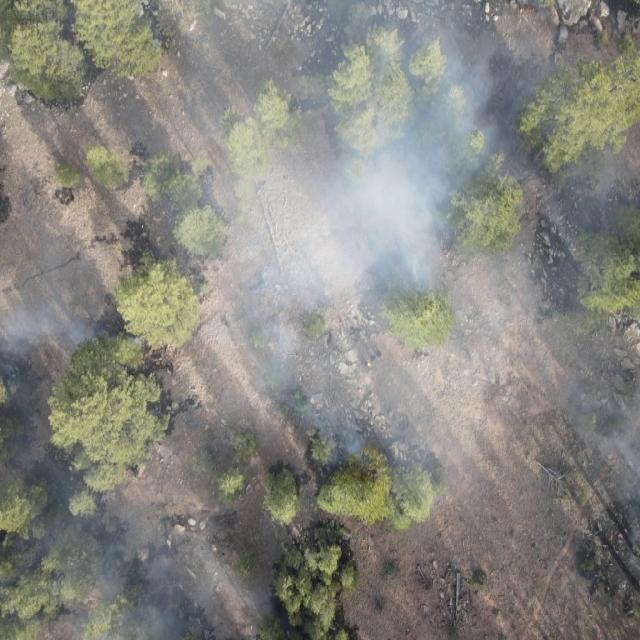fire: (516, 2, 538, 18), (69, 30, 81, 42)
smoke: (146, 0, 524, 332), (525, 70, 640, 548), (18, 466, 232, 640), (244, 331, 396, 477), (0, 254, 115, 378)
